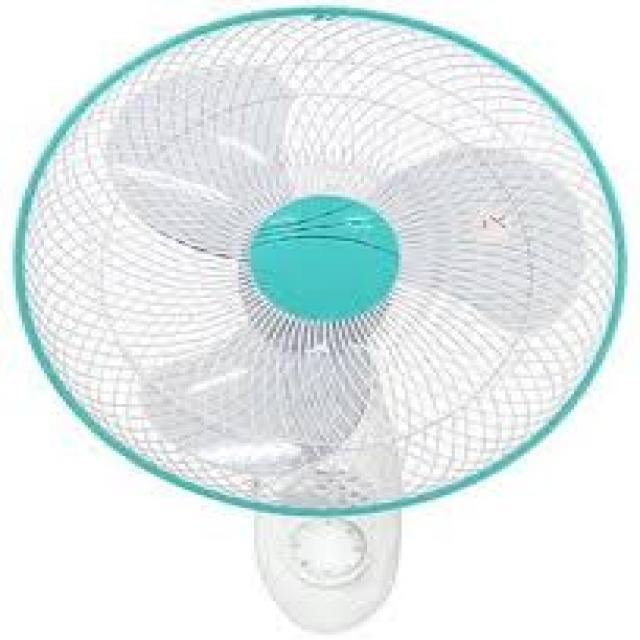fan: (0, 0, 629, 633)
